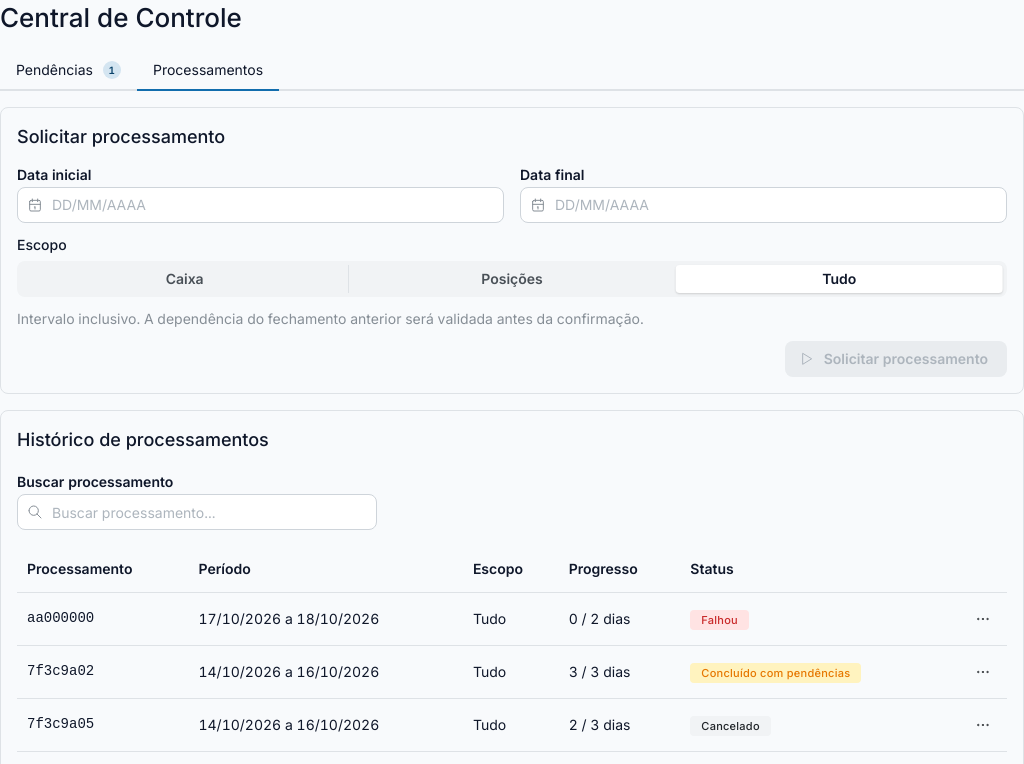
it: Processamentos: details (§11.1, §10.4) › §11.1 still shows an error box for a failed job without a message
Click the button named "Ações do processamento". click: (983, 619)
box: [969,605,997,633]
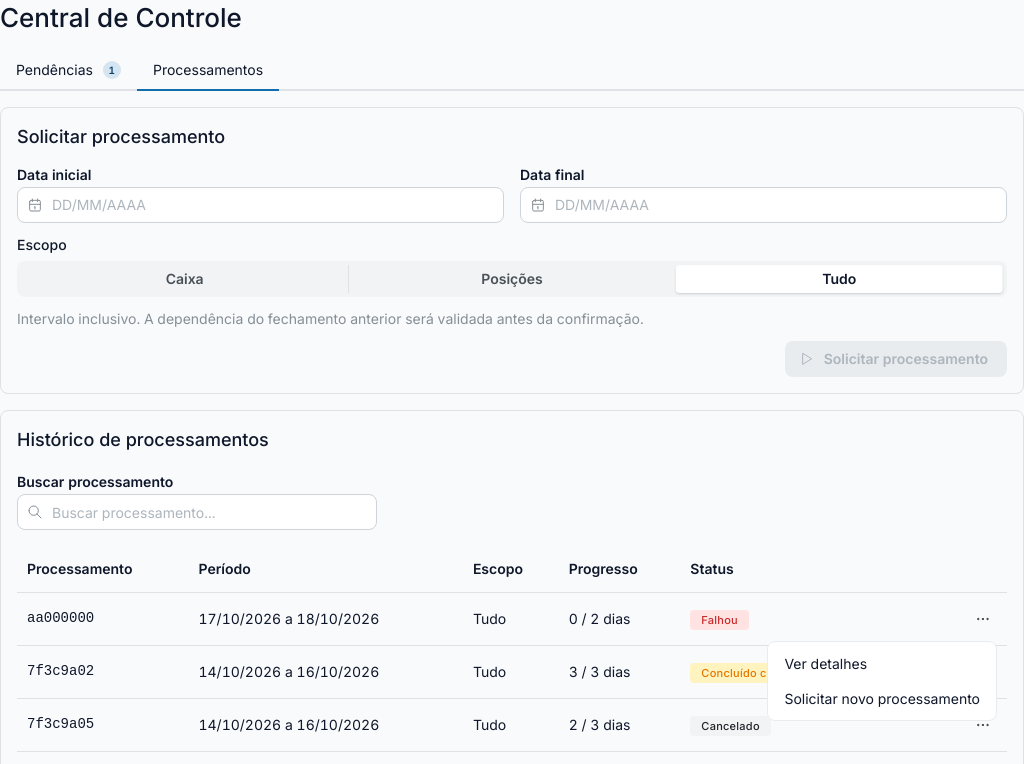
Click the menu item "Ver detalhes". click: (882, 663)
box: [772,646,992,681]
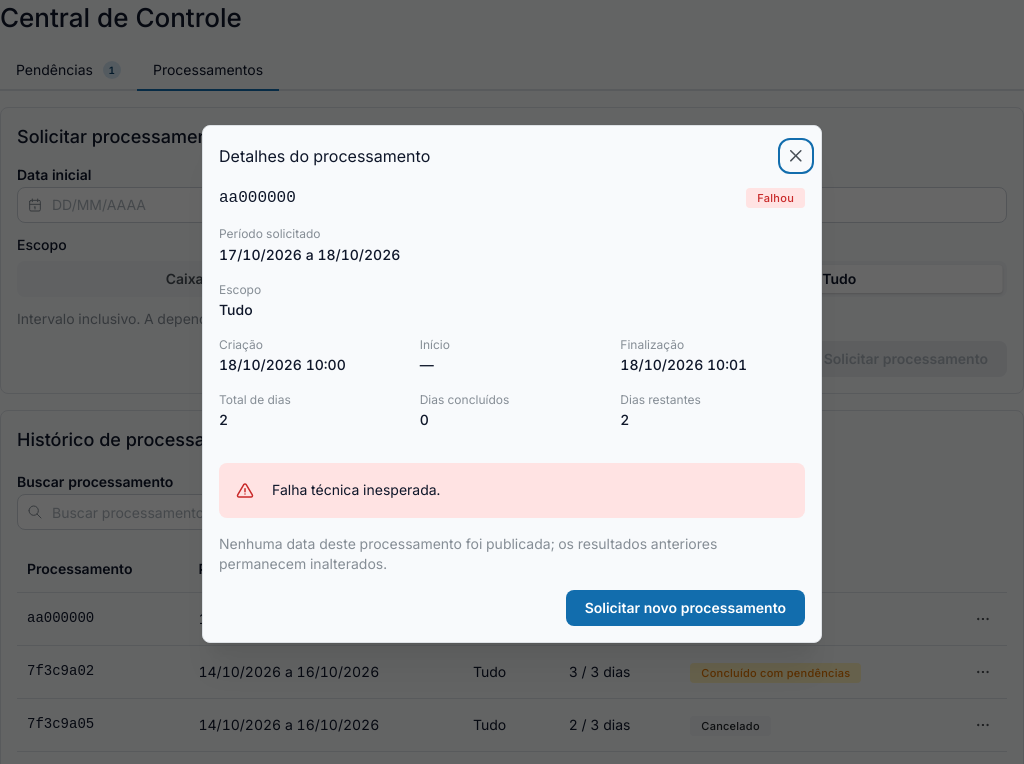
Expected: the message "Falha técnica inesperada." is shown, [219,463,805,518]
